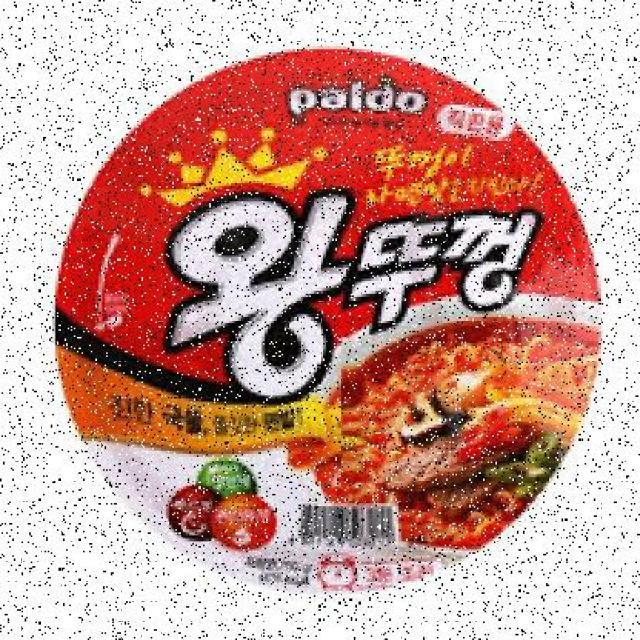Miscellaneous: (52, 44, 606, 616)
